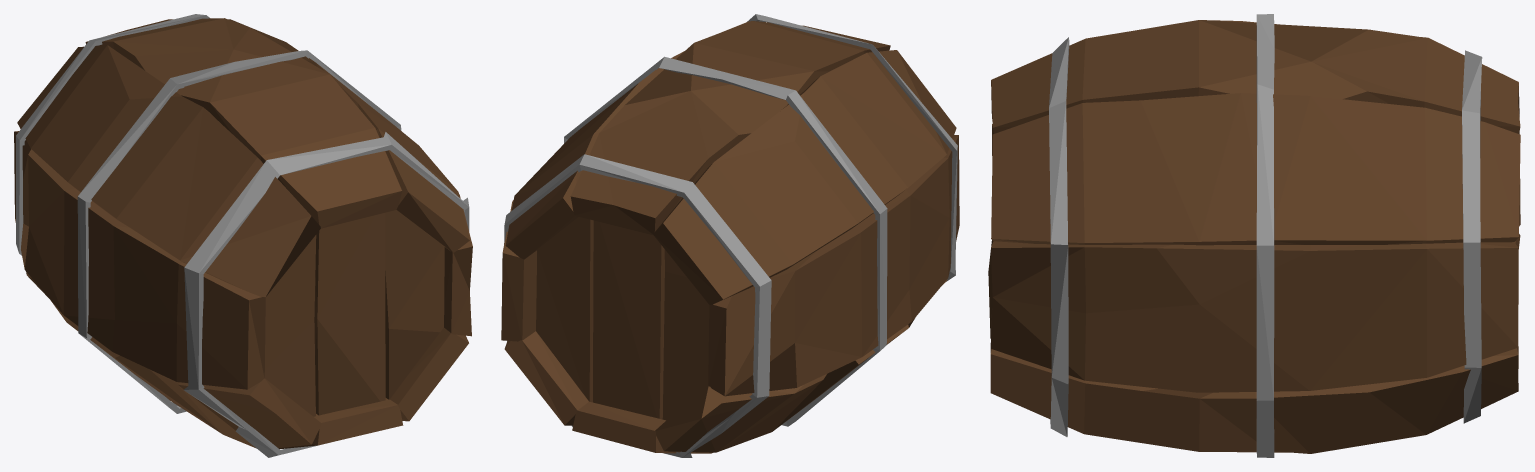
File: barrel.FBX
3 views of the same model, side by side, from view 1: azimuth 30°, elevation 25°; view 2: azimuth 150°, elevation 25°; view 3: azimuth 270°, elevation 25° (orthographic). The views are drawn at different scales.
Parts seen in each view (by area): view 1: barrel; view 2: barrel; view 3: barrel.
Part boxes in pixels (box(x1,y1,x2,y2)): barrel: box(14, 14, 472, 457); barrel: box(501, 14, 959, 457); barrel: box(988, 14, 1520, 457).
Bounding box in the file's own units: 61.77 × 61.9 × 79.53.
